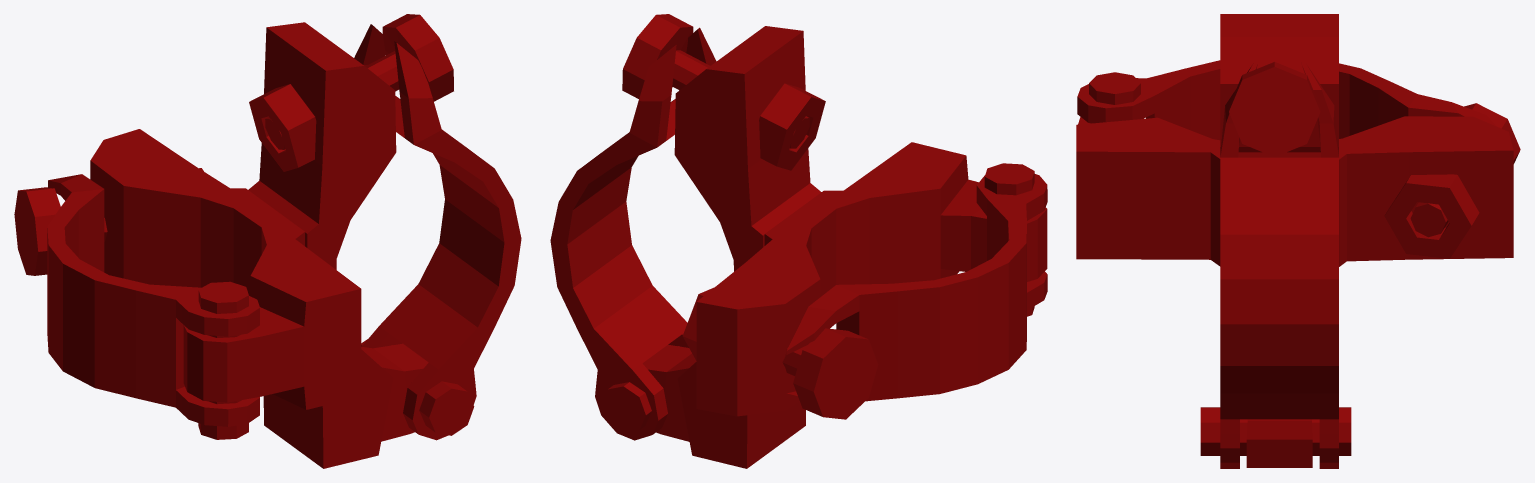
The picture shows the model from 3 angles, left to right: view 1: azimuth 30°, elevation 25°; view 2: azimuth 150°, elevation 25°; view 3: azimuth 270°, elevation 25°; orthographic projection.
Parts seen in each view (by area): view 1: pasted__Kakou11; view 2: pasted__Kakou11; view 3: pasted__Kakou11.
Part boxes in pixels (x1,y1,x2,y2): pasted__Kakou11: (14, 14, 521, 468); pasted__Kakou11: (550, 14, 1047, 468); pasted__Kakou11: (1076, 14, 1520, 468).
Bounding box in the file's own units: 12.34 × 11.07 × 11.07.
